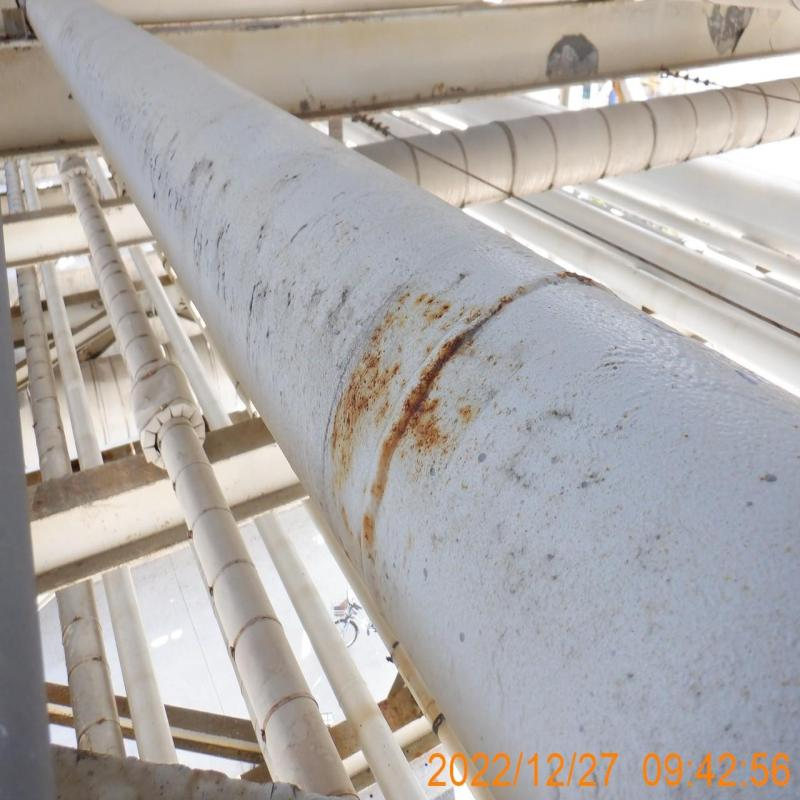corrosion: (402, 375, 436, 435)
